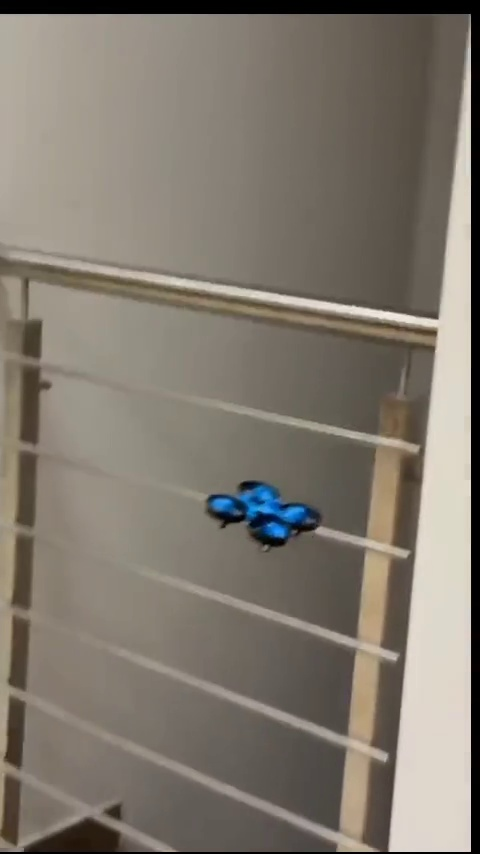drone: (208, 477, 322, 543)
